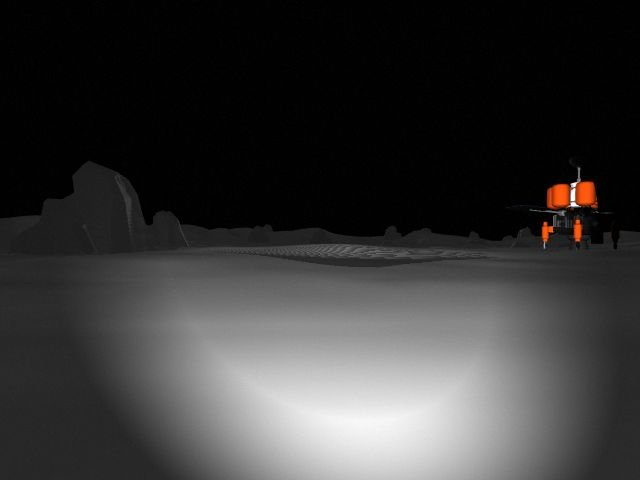homebase: (508, 151, 632, 252)
